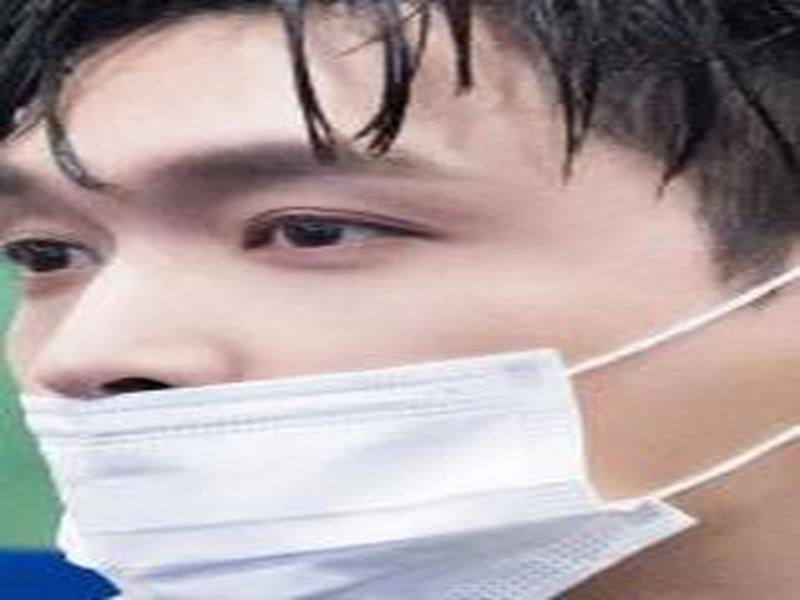with_mask: (1, 6, 798, 600)
